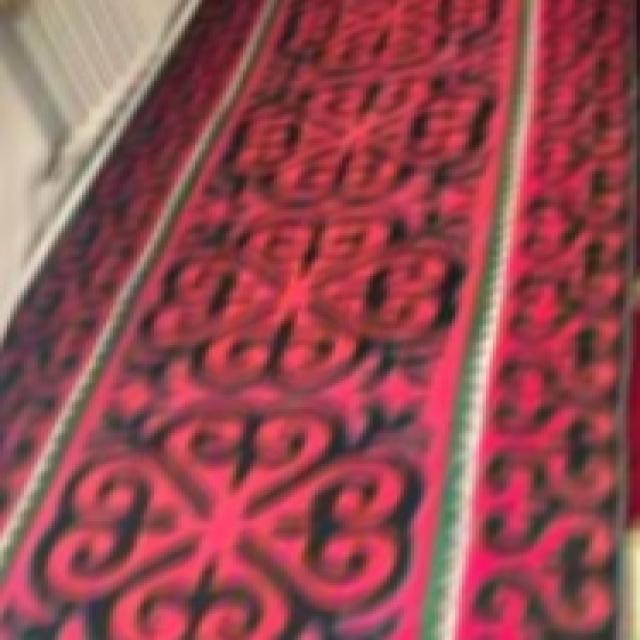Unity: (0, 387, 439, 638), (108, 203, 470, 391), (193, 69, 500, 205)
